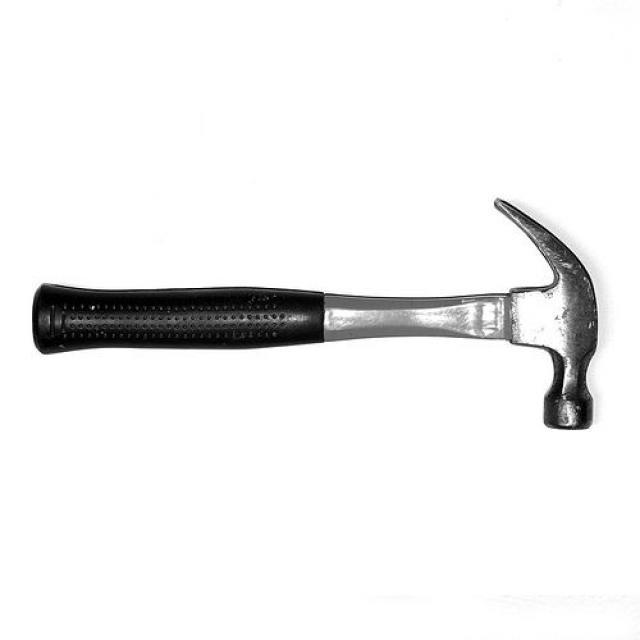hammer: (17, 190, 607, 439)
